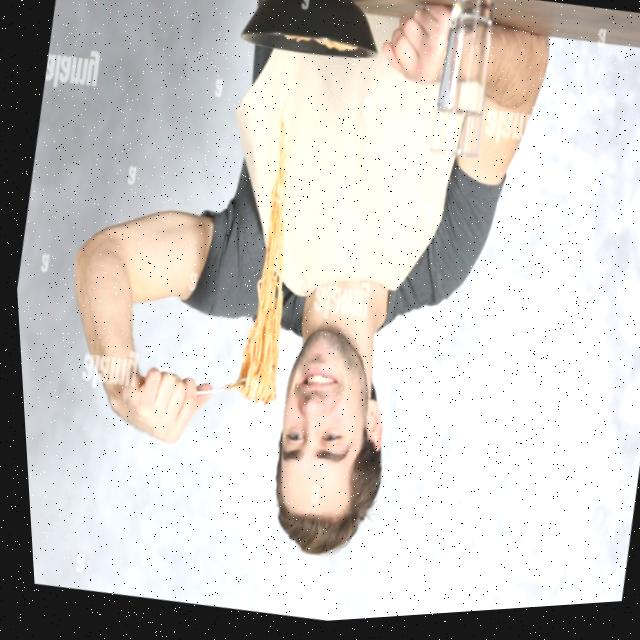eating-person: (1, 0, 591, 614)
